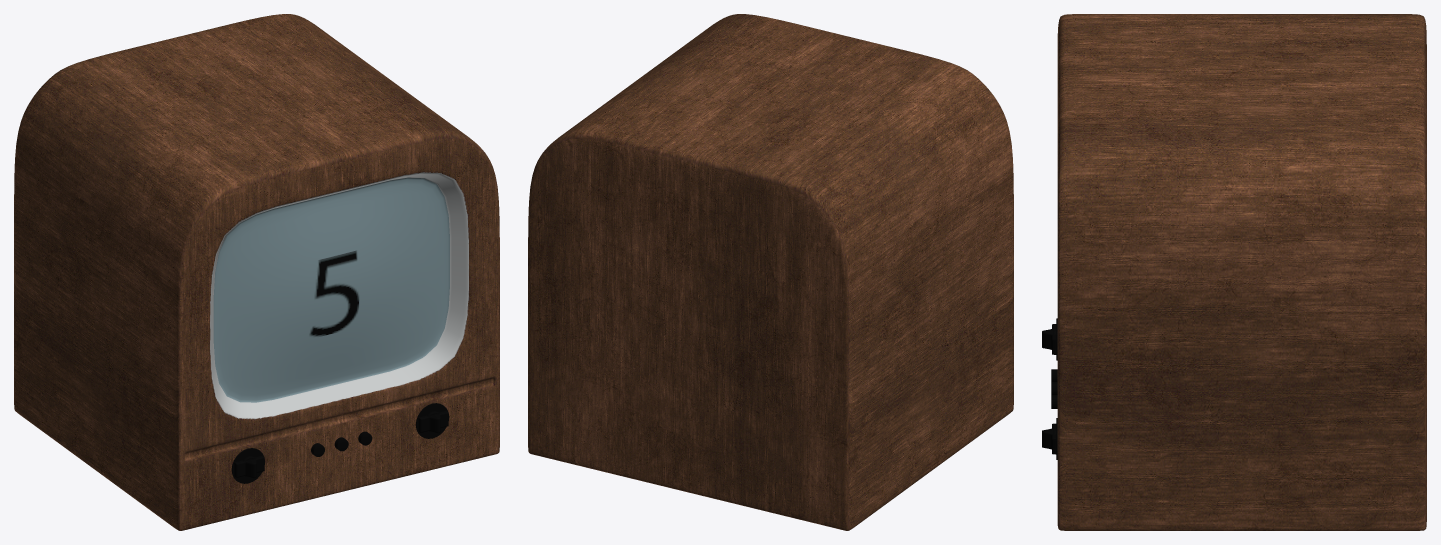
The model's file is televisionFive.glb.
3 renders of one model, left to right at view 1: azimuth 30°, elevation 25°; view 2: azimuth 150°, elevation 25°; view 3: azimuth 270°, elevation 25°, orthographic. The views are drawn at different scales.
Parts seen in each view (by area): view 1: TV television_midPoly; view 2: TV television_midPoly; view 3: TV television_midPoly.
Part boxes in pixels (bbox=[...]): TV television_midPoly: bbox=[14, 14, 499, 530]; TV television_midPoly: bbox=[528, 14, 1013, 530]; TV television_midPoly: bbox=[1057, 14, 1426, 530].
Size of the model in its own units: 0.0308 by 0.0308 by 0.0287.
1 material, 1 textured.
